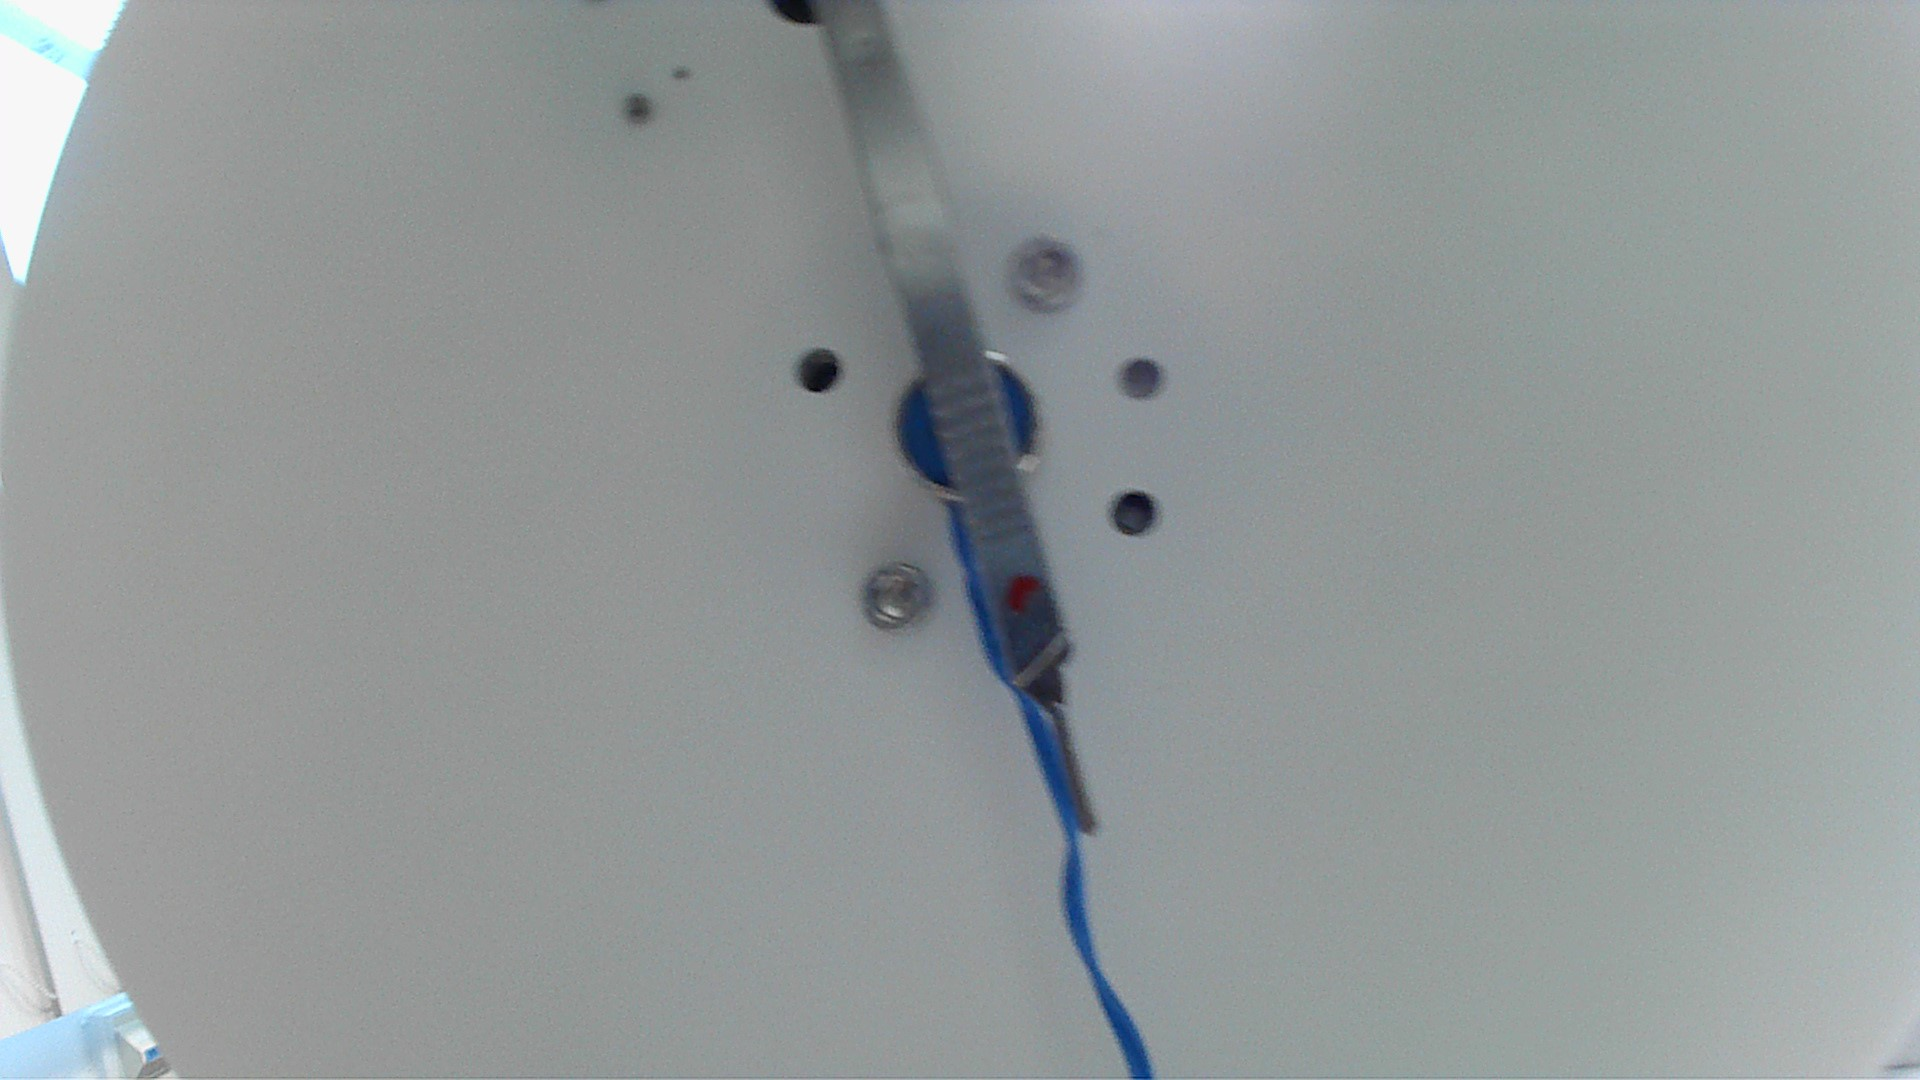Stain: (996, 568, 1047, 621)
